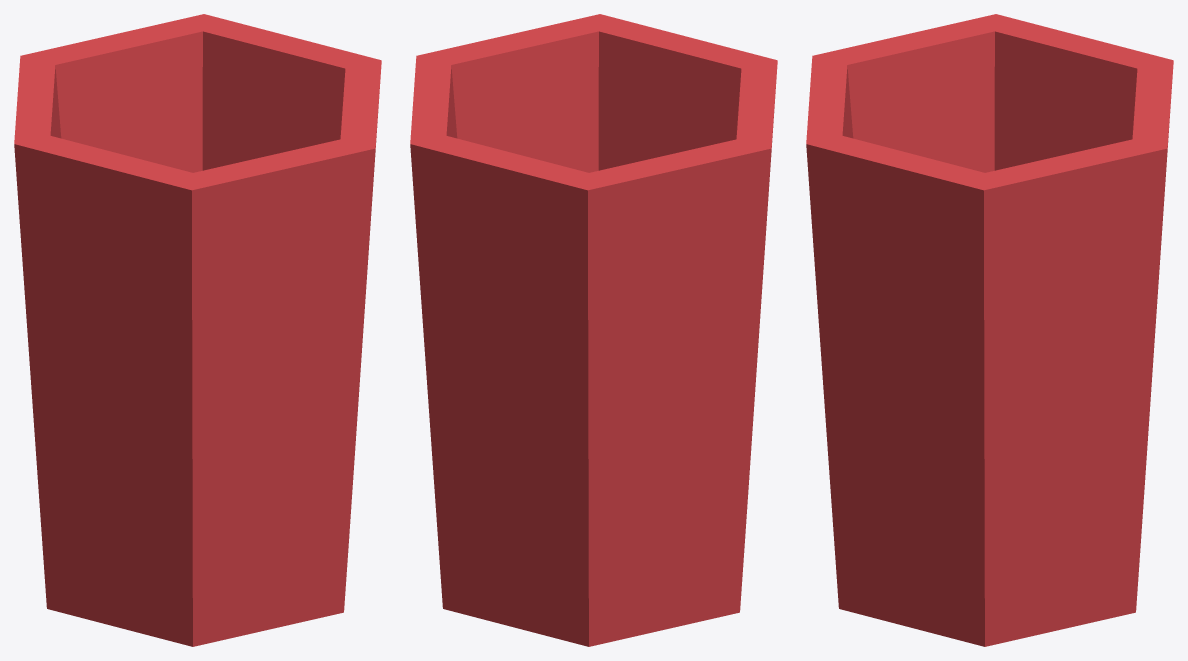
File: drink_use.fbx
3 renders of one model, left to right at view 1: azimuth 30°, elevation 25°; view 2: azimuth 150°, elevation 25°; view 3: azimuth 270°, elevation 25°, orthographic.
Visible parts, largest first — view 1: drink_use; view 2: drink_use; view 3: drink_use.
Part boxes in pixels (<box>): drink_use: <box>14,14,381,646</box>; drink_use: <box>410,14,777,646</box>; drink_use: <box>806,14,1173,646</box>.
Size of the model in its own units: 10.86 by 13.56 by 9.56.
